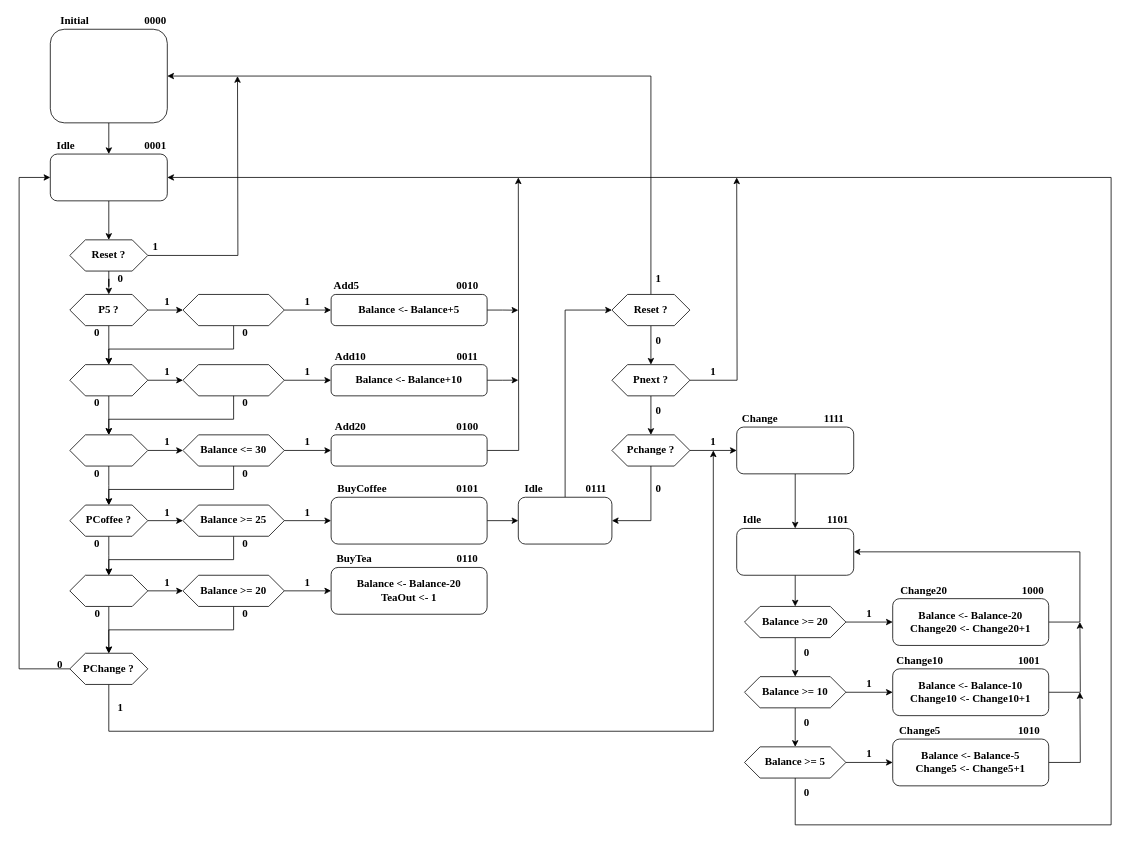
This 1131x845 diagram has some shape labels left out. Each missing label, with the centre of its shape:
"Balance <- Balance+20" goes at [408,450].
"Balance <- Balance-25 CoffeeOut <- 1" goes at [408,520].
"Balance <= 40" goes at [233,380].
"Balance <= 45" goes at [233,310].
"Change5 <- 0 Change10 <- 0 Change20 <- 0" goes at [795,450].
"Coffee <- 0 TeaOut <- 0" goes at [108,177].
"CoffeeOut <- 0 TeaOut <- 0 Change5 <- 0 Change10 <- 0 Change20 <- 0 Balance <- 0" goes at [108,75].
"P10 ?" goes at [108,380].
"P20 ?" goes at [108,450].
"PTea ?" goes at [108,590].
